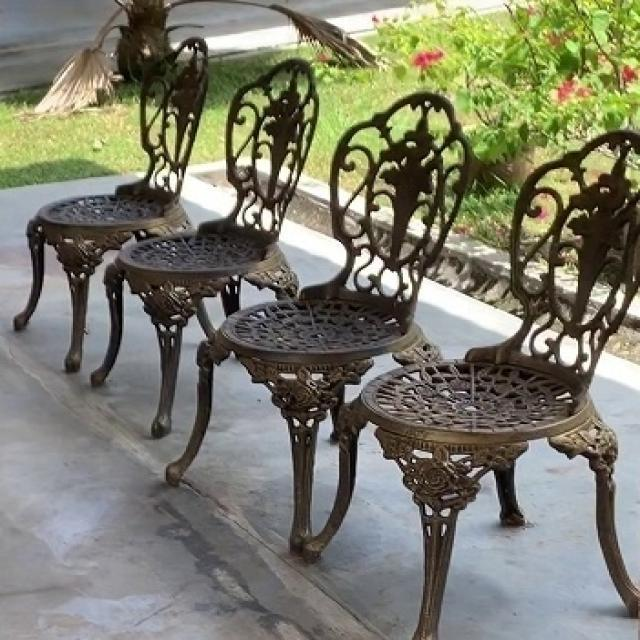chair: (306, 125, 640, 640), (168, 92, 486, 382), (96, 57, 328, 430), (13, 36, 208, 240)
